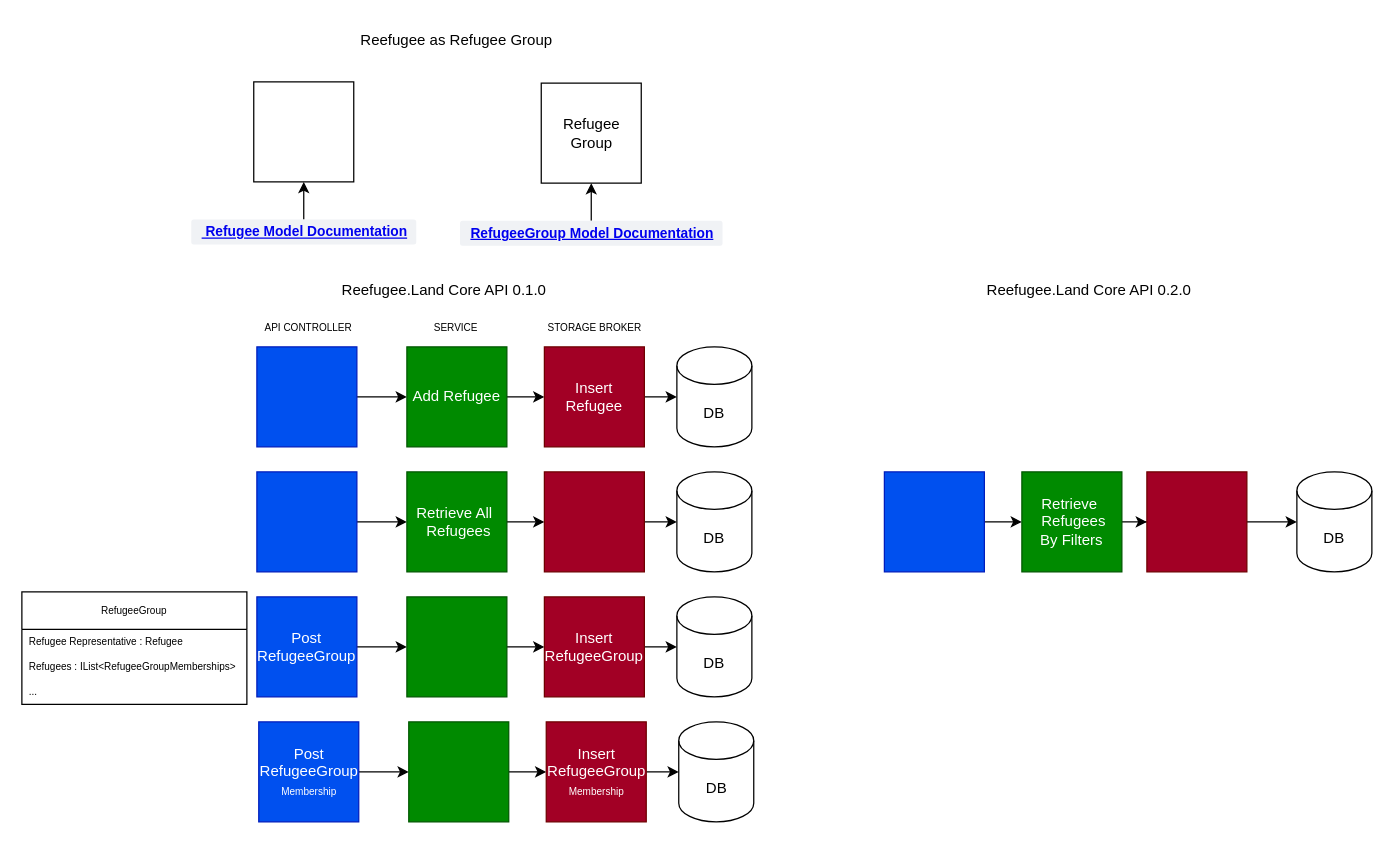
The diagram is 1394 pixels wide and 844 high, and some of its shapes have lost their labels. The centre of each missing label's shape, as x and y in pixels:
Add RefugeeGroup: the point at 456,646
Add RefugeeGroup Membership: the point at 458,771
Get All Refugees: the point at 306,521
Get Refugees By Filters: the point at 933,521
Post Refugee: the point at 306,396
Refugee: the point at 303,131
Select All Refugees: the point at 593,521
Select Refugees By Filters: the point at 1196,521
